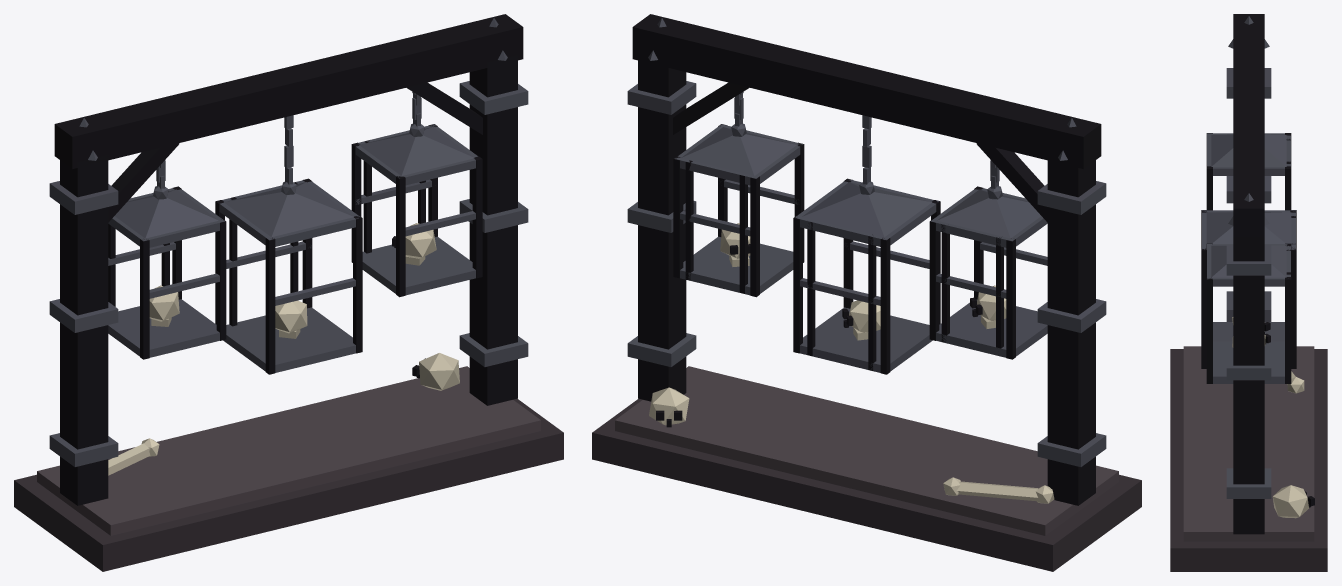
File: Decor_HellGate_IronCages.fbx
3 renders of one model, left to right at view 1: azimuth 30°, elevation 25°; view 2: azimuth 150°, elevation 25°; view 3: azimuth 270°, elevation 25°, orthographic. The views are drawn at different scales.
Visible parts, largest first — view 1: IronCages_Body; view 2: IronCages_Body; view 3: IronCages_Body.
Boxes of the visible parts, box(x1,y1,x2,y2) form: IronCages_Body: box(14, 14, 563, 571); IronCages_Body: box(592, 14, 1141, 571); IronCages_Body: box(1170, 14, 1327, 571).
Bounding box in the file's own units: 18 × 15.51 × 6.
